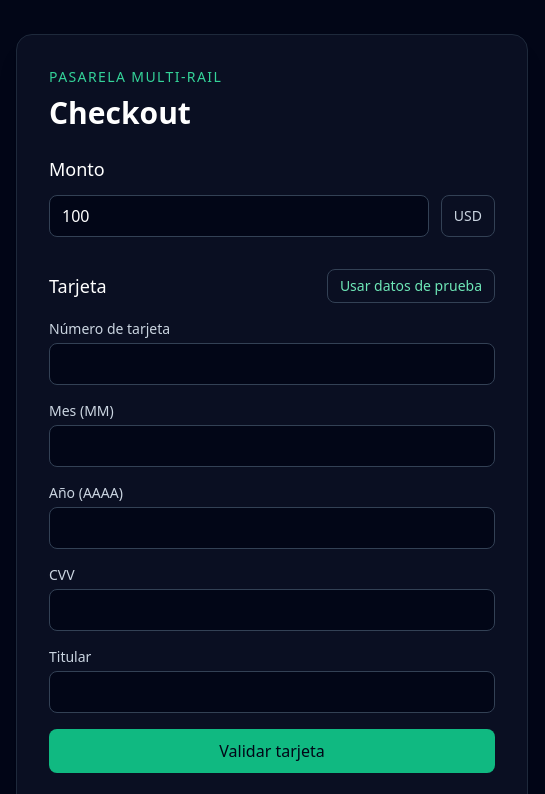
it: CheckoutPage › muestra error UX ante respuesta 422 INVALID_CARD
Click the button "Usar datos de prueba" at [411, 286], box [327,269,495,303]
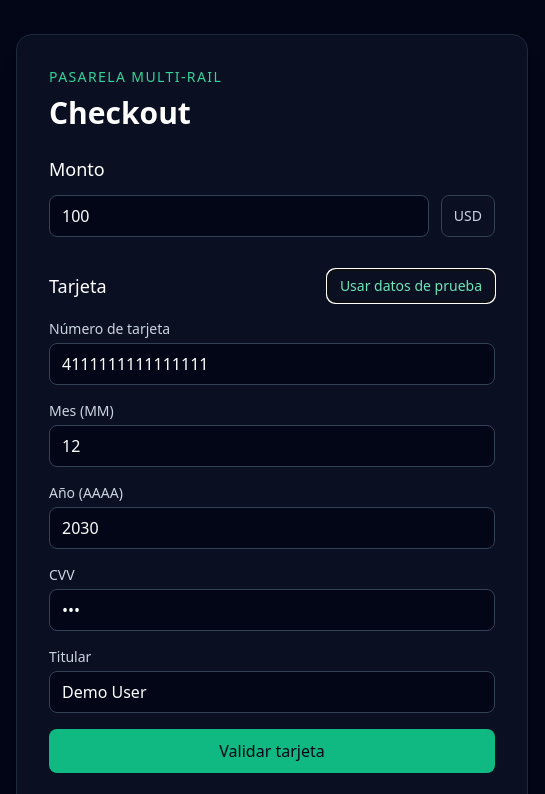
Click the button "Validar tarjeta" at [272, 751], box [49,729,495,773]
(page scrolled)
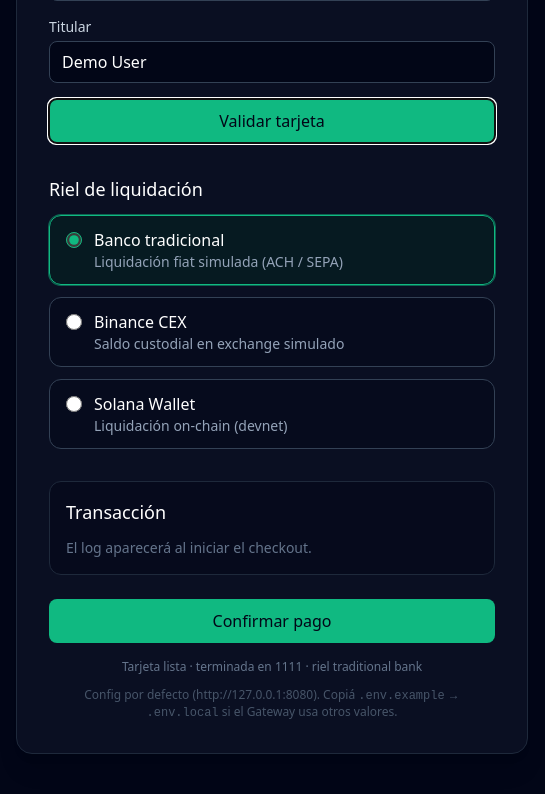
Click the button "Confirmar pago" at [272, 621], box [49,599,495,643]
(page scrolled)
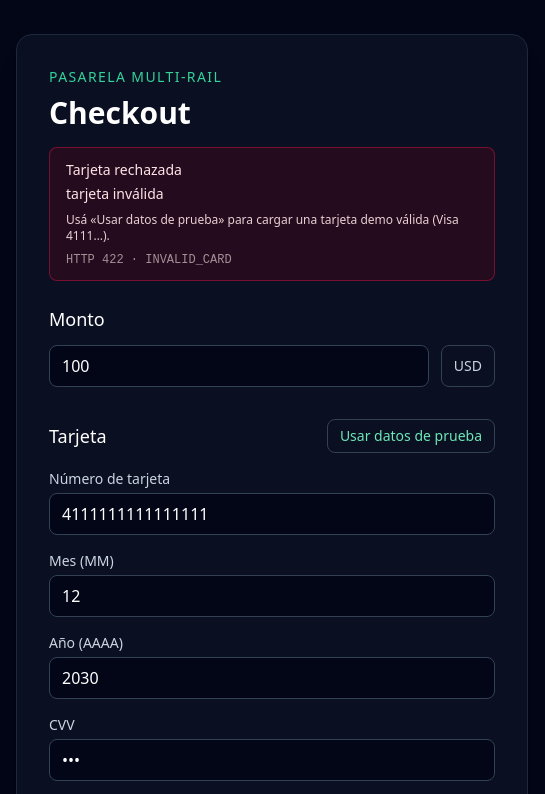
expect the message shows "tarjeta inválida": met, box [66,184,164,203]
expect the message shows "datos de prueba": met, box [66,211,459,244]
expect the message shows "HTTP 422": met, box [49,147,495,281]
